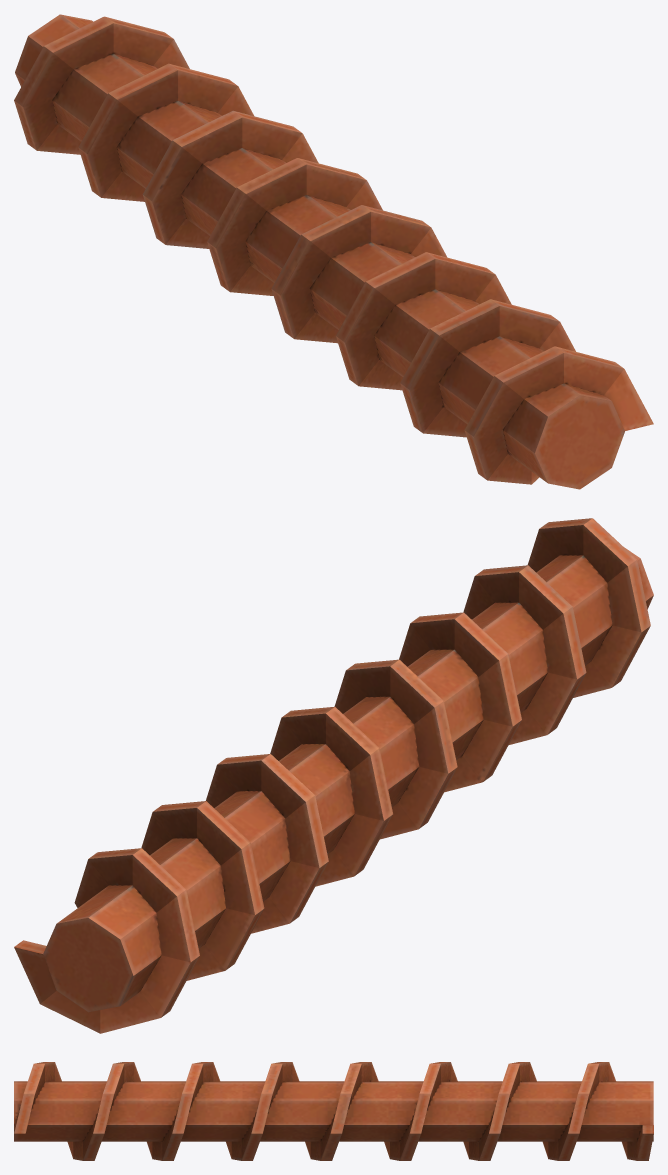
The model's file is CopperThreadedRod_Polished.glb.
3 views of the same model, one above another, from view 1: azimuth 30°, elevation 25°; view 2: azimuth 150°, elevation 25°; view 3: azimuth 270°, elevation 25° (orthographic). The views are drawn at different scales.
Parts seen in each view (by area): view 1: CopperThreadedRod_Polished; view 2: CopperThreadedRod_Polished; view 3: CopperThreadedRod_Polished.
Part boxes in pixels (bbox=[...]): CopperThreadedRod_Polished: bbox=[14, 14, 653, 489]; CopperThreadedRod_Polished: bbox=[14, 518, 653, 1033]; CopperThreadedRod_Polished: bbox=[14, 1062, 653, 1160].
Bounding box in the file's own units: 0.133 × 0.133 × 0.8084.
Materials: 1 (1 with a texture image).
